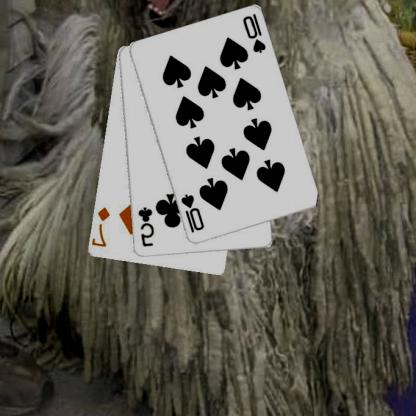10S: (242, 11, 269, 55), (180, 192, 207, 234)
5C: (137, 205, 157, 248)
7D: (92, 204, 112, 249)
